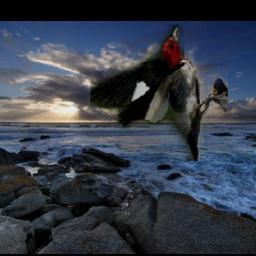Crow: (113, 194, 133, 214)
Woodpecker: (89, 25, 227, 161)
